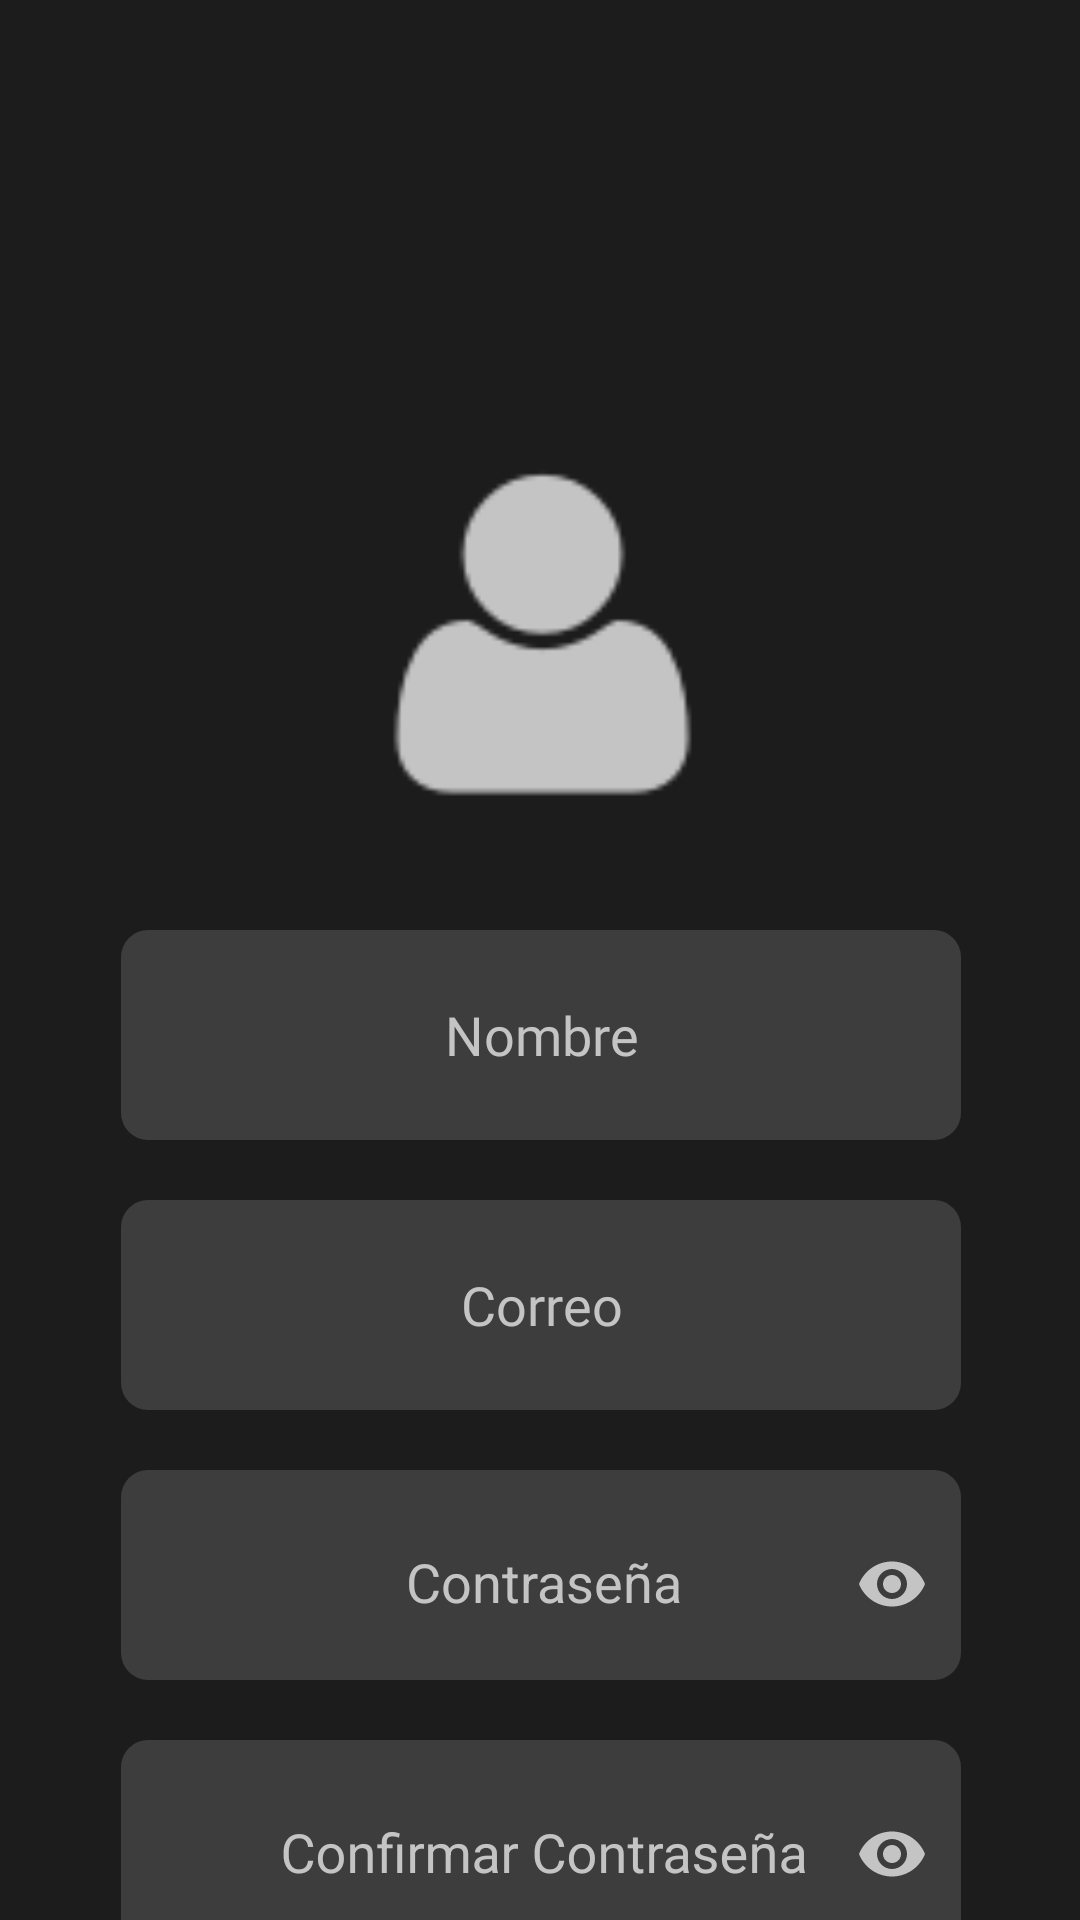

Icon click points for this 1080px x 1920px phone screenshot, format (x=x, y=y):
user: (x=542, y=634)
